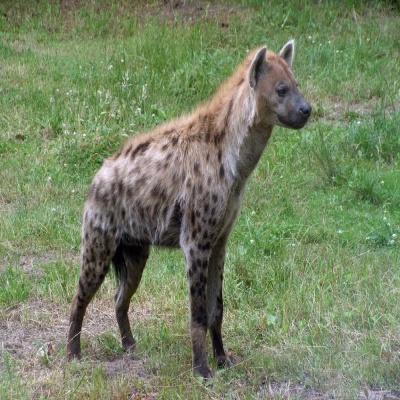hyenas: (44, 44, 392, 365)
